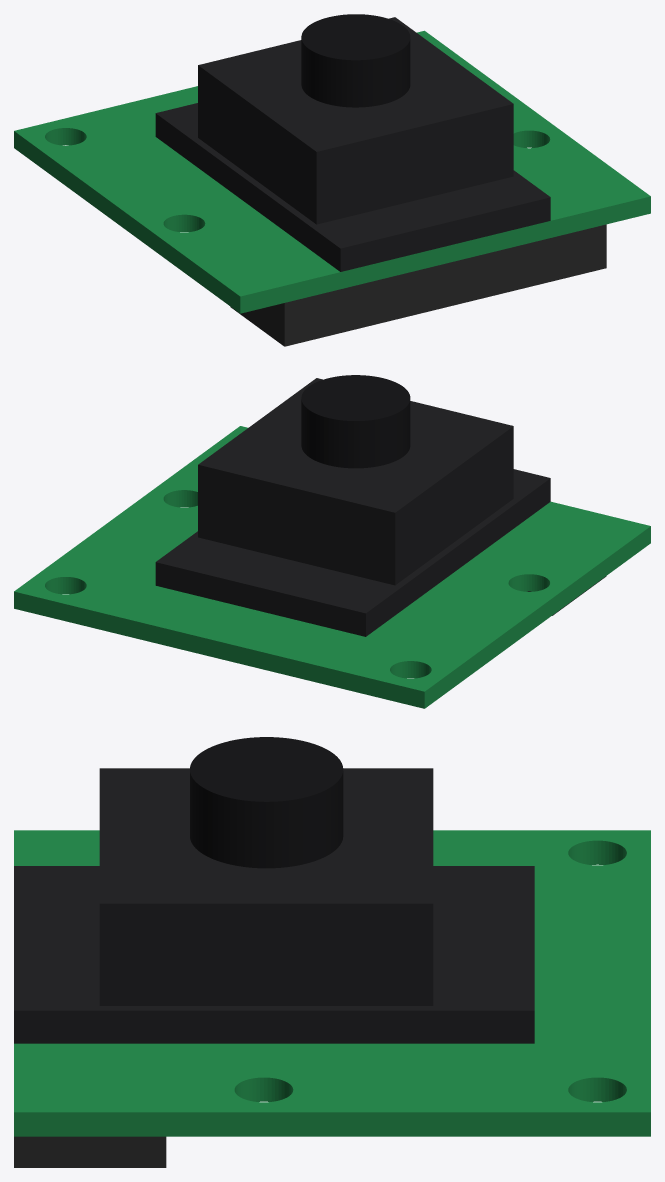
The model's file is raspberry-pi-ai-camera.glb.
3 views of the same model, one above another, from view 1: azimuth 30°, elevation 25°; view 2: azimuth 150°, elevation 25°; view 3: azimuth 270°, elevation 25° (orthographic). The views are drawn at different scales.
Parts seen in each view (by area): view 1: raspberry-pi-ai-camera; view 2: raspberry-pi-ai-camera; view 3: raspberry-pi-ai-camera.
Part boxes in pixels (x1,y1,x2,y2): raspberry-pi-ai-camera: [14, 14, 650, 346]; raspberry-pi-ai-camera: [14, 375, 650, 708]; raspberry-pi-ai-camera: [14, 737, 650, 1167].
Size of the model in its own units: 25 by 11.9 by 23.86.
